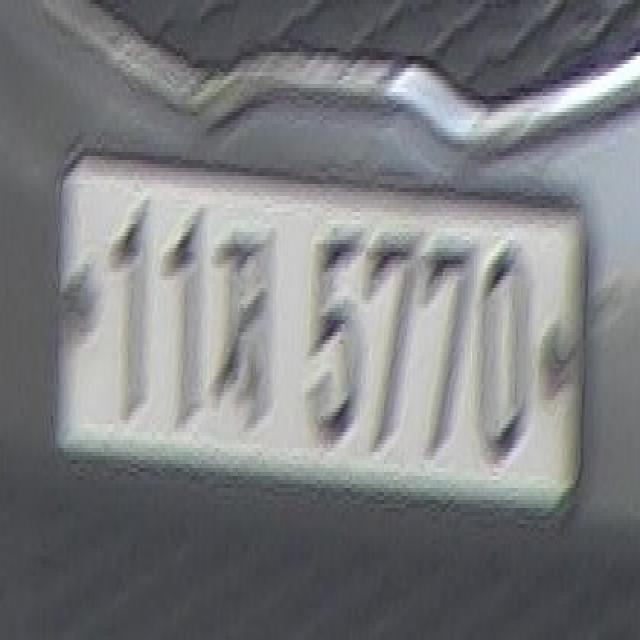0: (474, 240, 538, 480)
1: (104, 192, 158, 436), (157, 196, 210, 440)
5: (303, 216, 367, 468)
7: (414, 232, 482, 468), (363, 224, 419, 456)
jeo: (210, 216, 280, 444)
license_plate: (47, 128, 591, 532)
